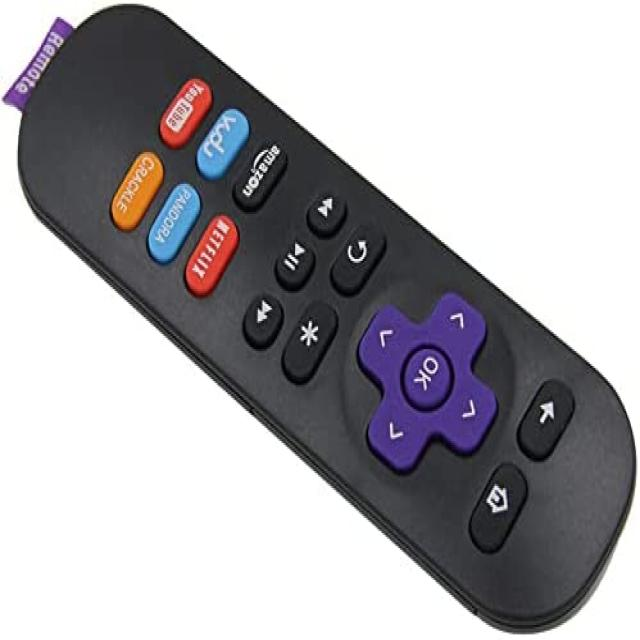remote: (5, 0, 640, 640)
